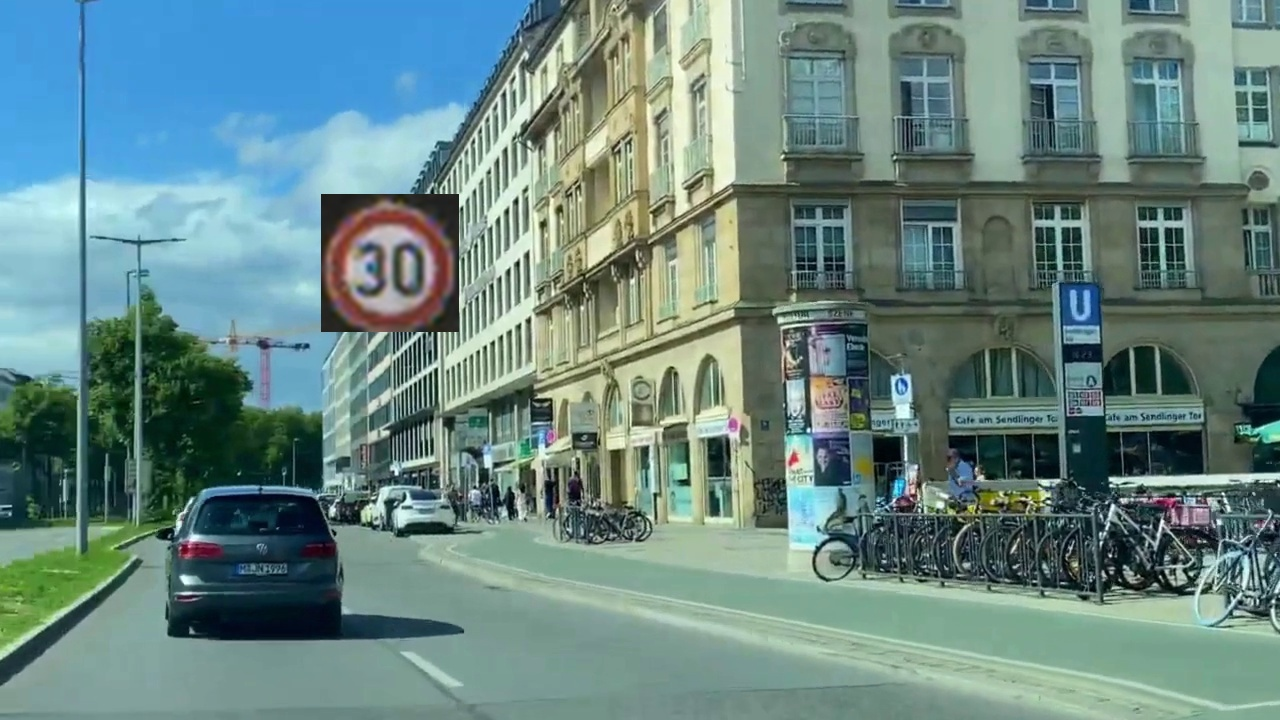Speed 30: (321, 194, 459, 332)
